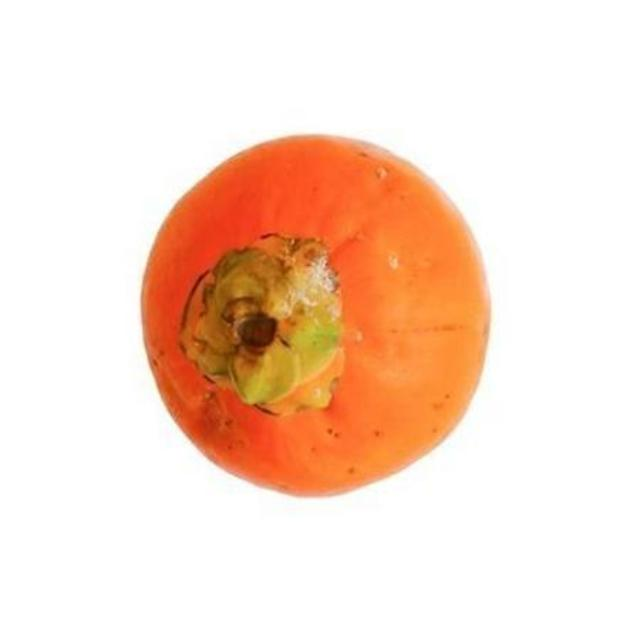good: (149, 137, 492, 500)
